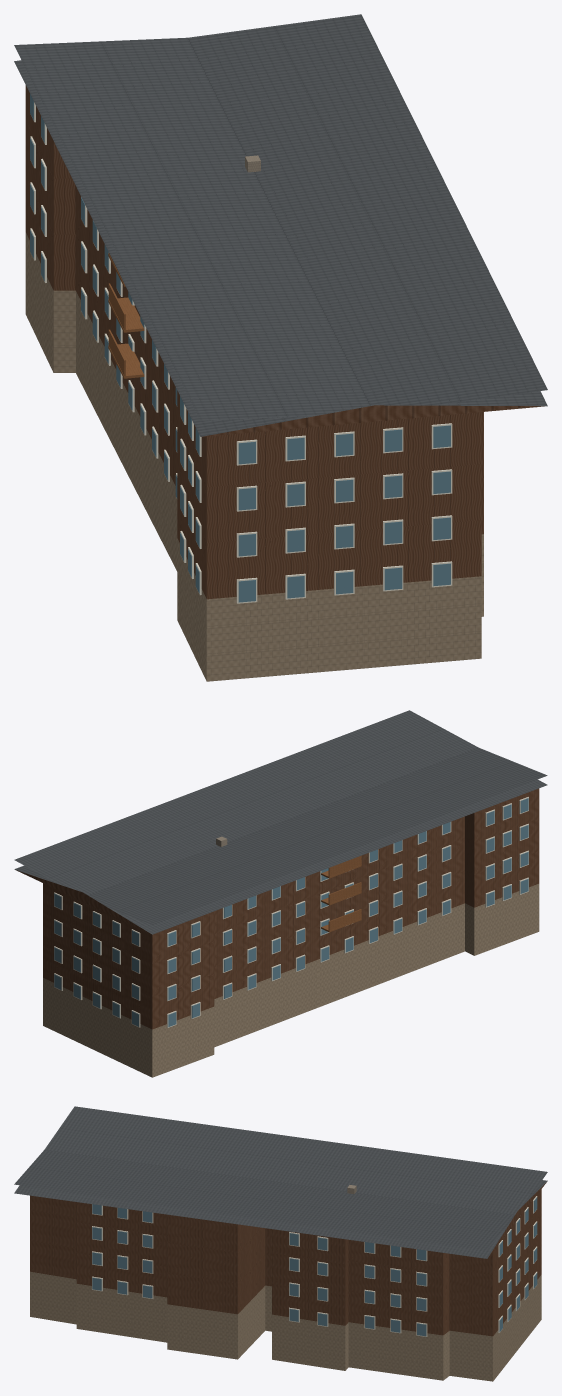
File: core_0004.gltf
3 renders of one model, top to bottom at view 1: azimuth 30°, elevation 25°; view 2: azimuth 150°, elevation 25°; view 3: azimuth 270°, elevation 25°, orthographic. The views are drawn at different scales.
Parts seen in each view (by area): view 1: core_0004; view 2: core_0004; view 3: core_0004.
Part boxes in pixels (x1,y1,x2,y2): core_0004: (14, 14, 547, 681); core_0004: (14, 710, 547, 1077); core_0004: (14, 1106, 547, 1381).
Bounding box in the file's own units: 34.81 × 16.65 × 54.63.
Materials: 7 (7 with a texture image).
